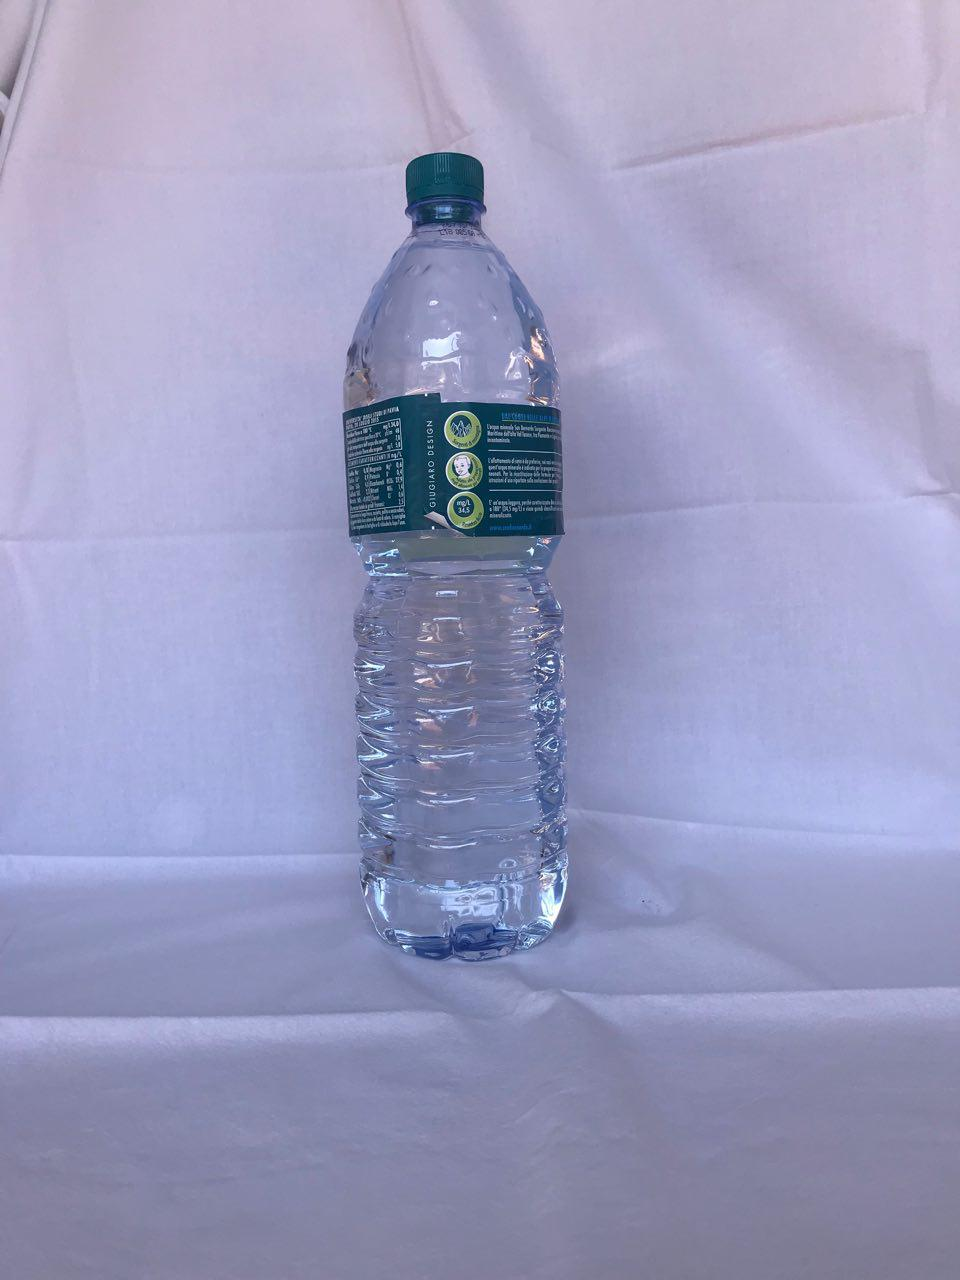san_bernardo: (339, 150, 570, 965)
